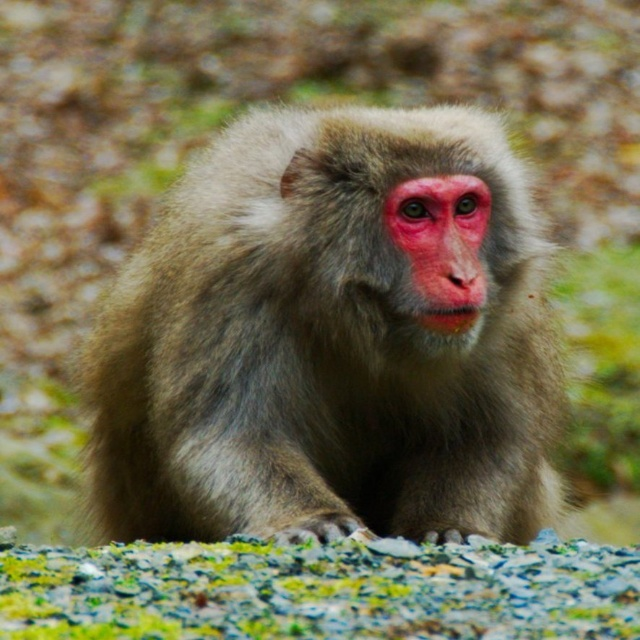Monkey: (72, 102, 572, 548)
